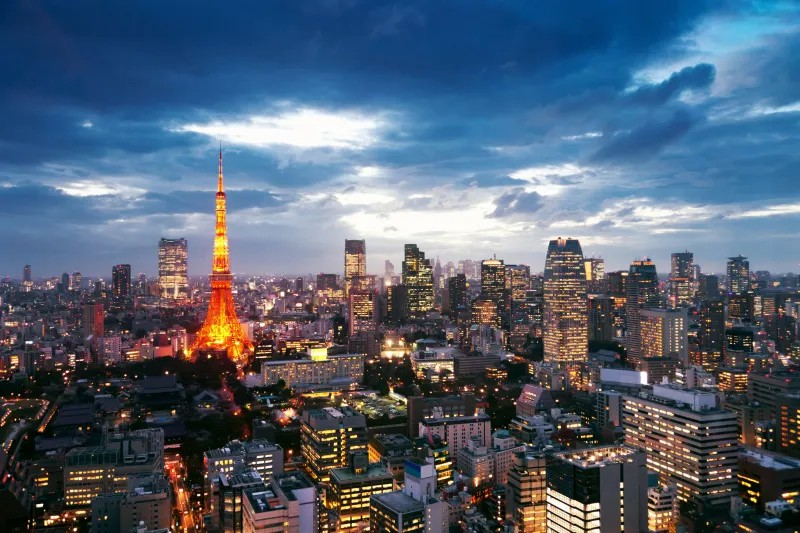Tokyo: (186, 136, 255, 374)
